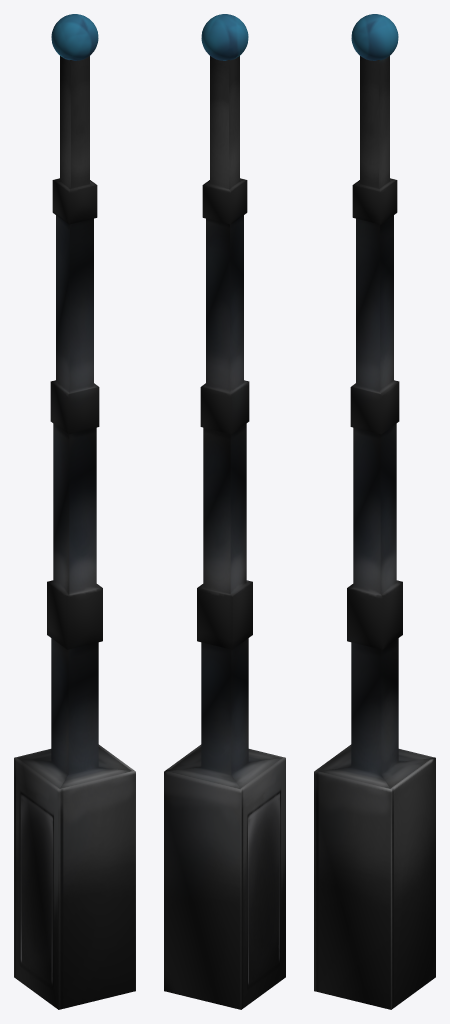
The model's file is Post.fbx.
3 views of the same model, side by side, from view 1: azimuth 30°, elevation 25°; view 2: azimuth 150°, elevation 25°; view 3: azimuth 330°, elevation 25° (orthographic).
Visible parts, largest first — view 1: Cube.001; view 2: Cube.001; view 3: Cube.001.
Boxes of the visible parts, left/top/right/bottom form: Cube.001: left=14, top=14, right=135, bottom=1009; Cube.001: left=164, top=14, right=285, bottom=1009; Cube.001: left=314, top=14, right=435, bottom=1009.
Size of the model in its own units: 29.08 by 349 by 29.08.
